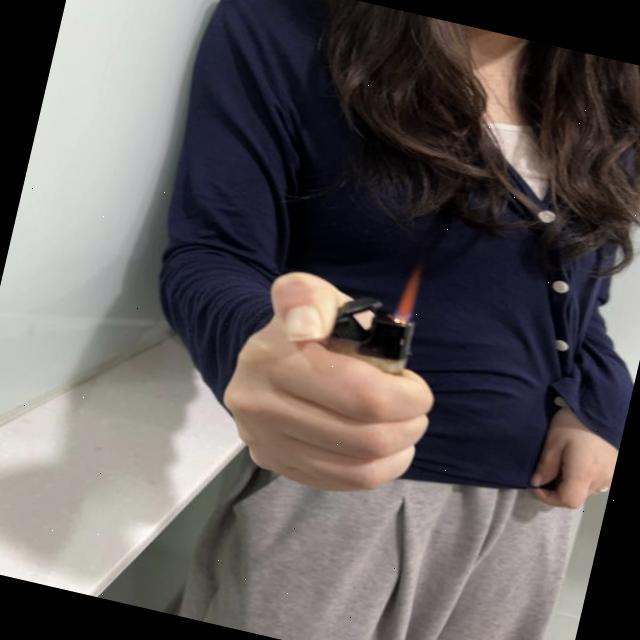fire: (396, 264, 426, 324)
